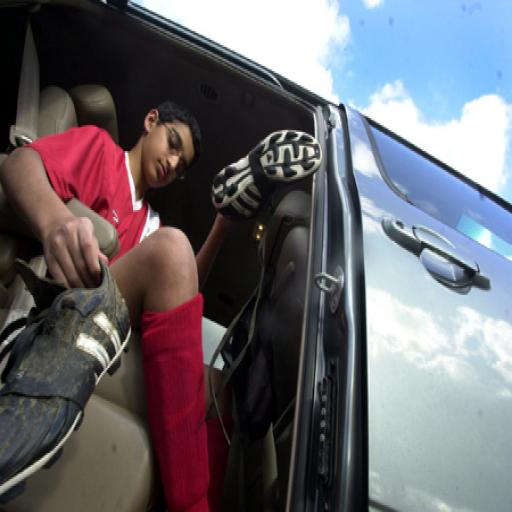person: (2, 99, 323, 510)
